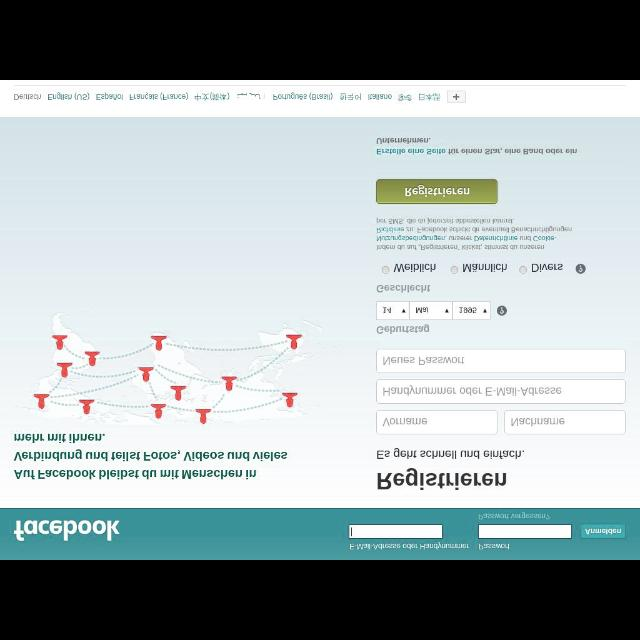button: (446, 90, 466, 104)
checkbox: (382, 266, 390, 274), (451, 266, 459, 274), (519, 266, 527, 274)
icon: (497, 304, 508, 316), (574, 264, 586, 274), (452, 94, 460, 100), (444, 309, 450, 313), (402, 309, 406, 313), (483, 308, 487, 312)
image: (16, 309, 352, 426), (14, 520, 120, 542)
input: (377, 379, 626, 403), (377, 349, 626, 373), (504, 410, 626, 434), (377, 410, 498, 434), (478, 525, 572, 539), (350, 526, 442, 538)
multitab: (14, 91, 442, 101)
spinner: (410, 302, 452, 320), (452, 302, 490, 320), (377, 302, 409, 320)
text: (13, 433, 287, 479), (376, 216, 572, 250), (377, 138, 578, 154), (378, 467, 507, 489), (382, 384, 562, 396), (376, 447, 524, 459), (350, 542, 470, 550), (383, 356, 465, 366), (406, 185, 470, 197), (478, 511, 550, 519), (511, 417, 565, 427), (376, 324, 429, 334), (273, 92, 333, 100), (130, 92, 188, 100), (382, 417, 428, 427), (462, 263, 508, 273), (376, 284, 430, 292), (394, 263, 436, 273), (48, 92, 90, 100), (194, 92, 230, 100), (531, 264, 563, 272), (237, 91, 266, 99), (96, 92, 124, 100), (586, 528, 622, 534), (419, 92, 441, 101), (480, 543, 510, 549), (14, 94, 42, 100), (341, 92, 362, 100), (368, 94, 392, 100), (398, 93, 412, 101), (459, 307, 477, 313), (416, 306, 428, 314), (382, 306, 392, 314)
textbutton: (377, 180, 498, 204), (580, 524, 626, 538)
